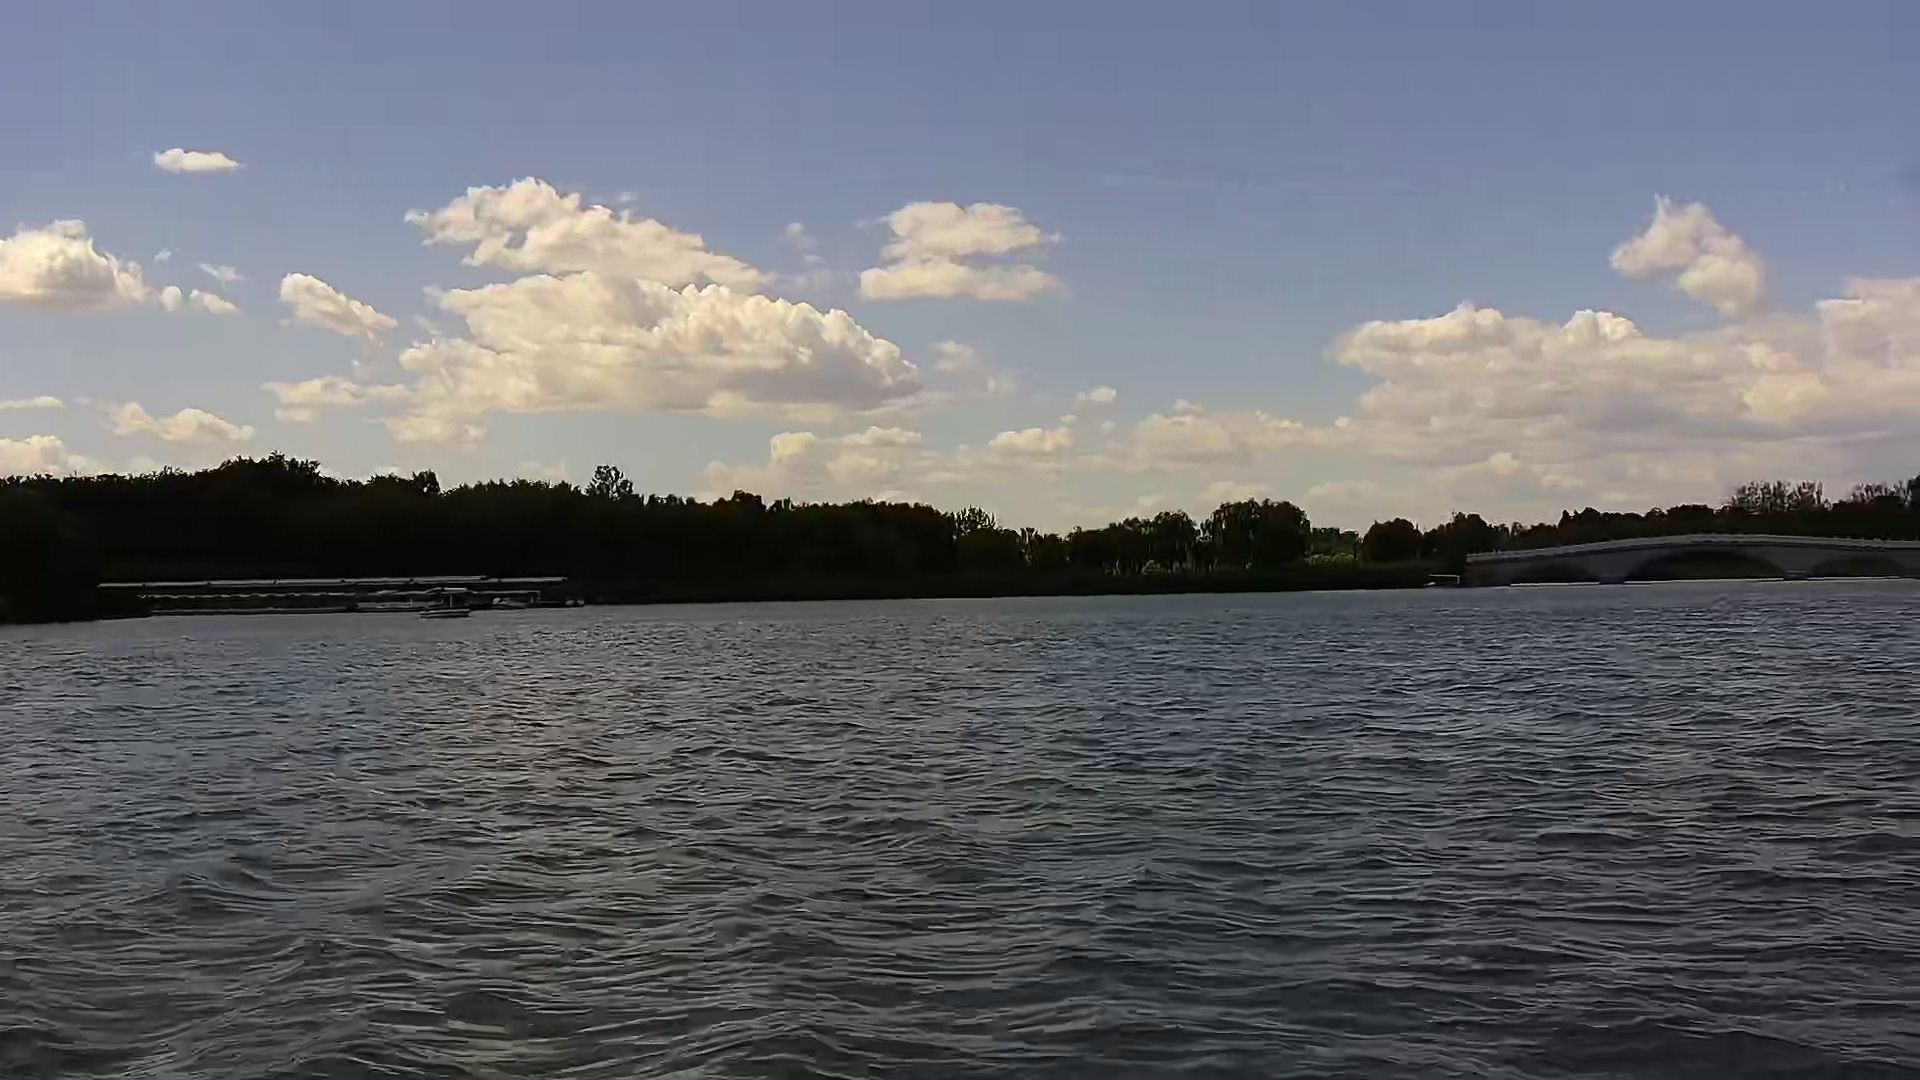boat: (415, 585, 476, 621)
bridge: (1462, 531, 1920, 591)
harbor: (96, 574, 591, 611)
